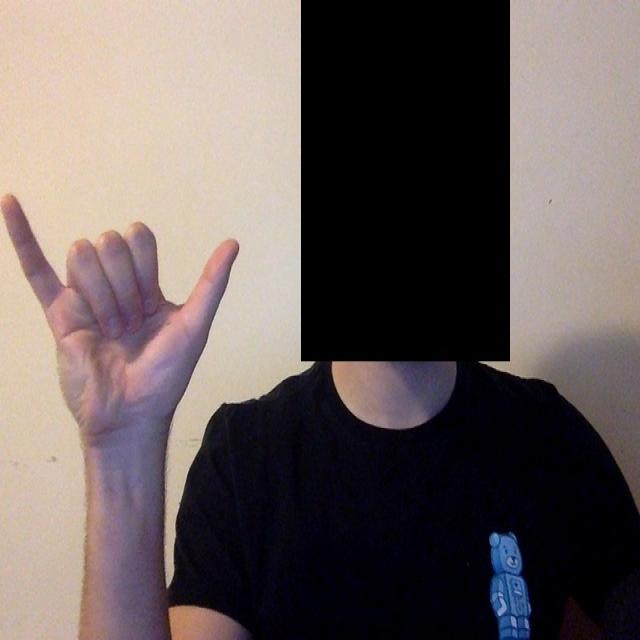Y: (1, 151, 244, 460)
